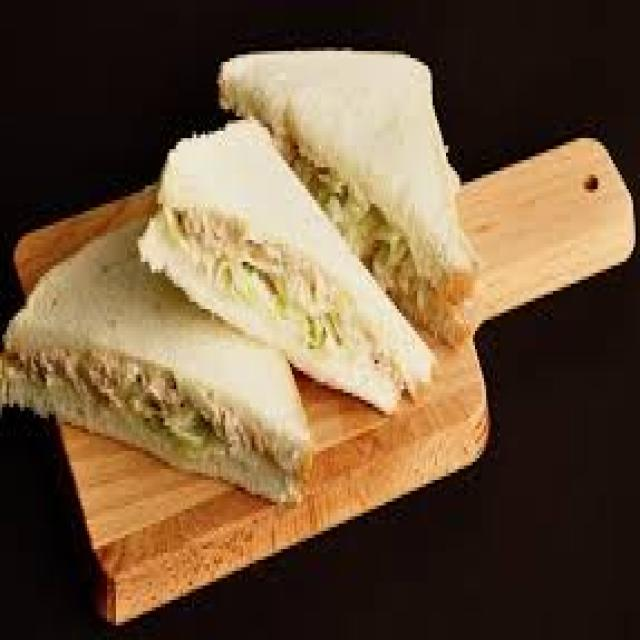Sandwich: (58, 43, 469, 438)
